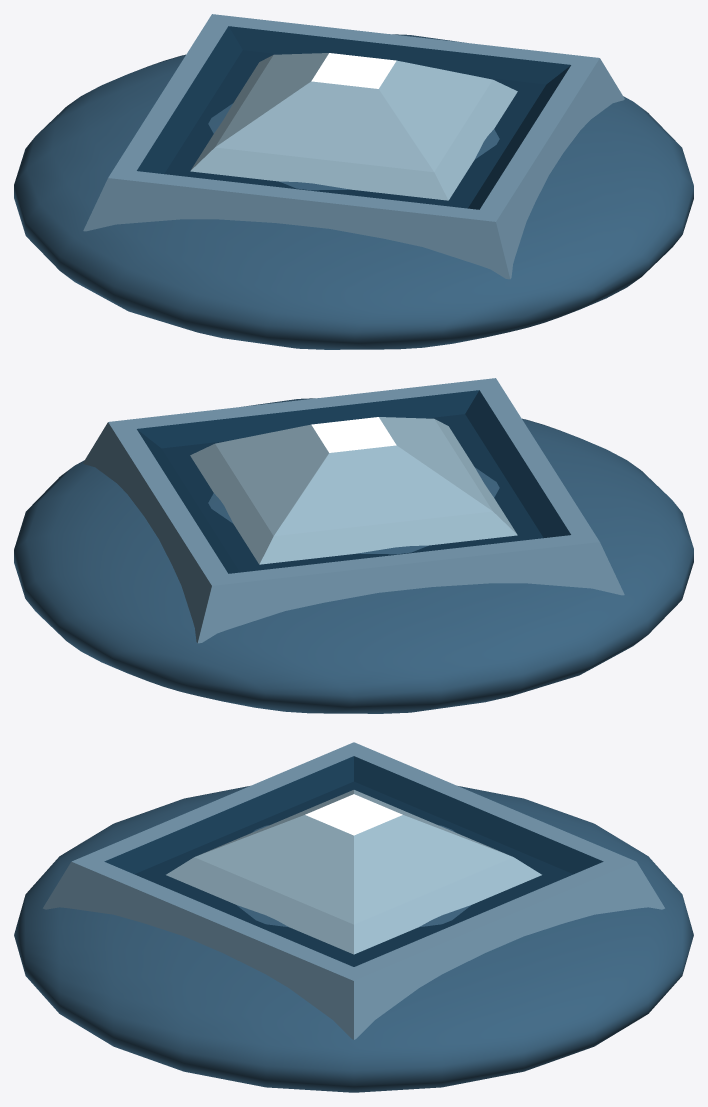
Rendered from newshv-153.glb.
The picture shows the model from 3 angles, top to bottom: view 1: azimuth 30°, elevation 25°; view 2: azimuth 150°, elevation 25°; view 3: azimuth 270°, elevation 25°; orthographic projection.
Parts seen in each view (by area): view 1: newshv-153, newshv-153_diamond; view 2: newshv-153, newshv-153_diamond; view 3: newshv-153_diamond, newshv-153.
Boxes of the visible parts, <box> form: newshv-153: <box>14,34,693,349</box>; newshv-153_diamond: <box>83,14,624,279</box>; newshv-153: <box>14,398,693,713</box>; newshv-153_diamond: <box>83,378,624,643</box>; newshv-153_diamond: <box>43,742,664,1039</box>; newshv-153: <box>14,786,693,1092</box>.
Size of the model in its own units: 1.37 by 0.4391 by 1.38.
